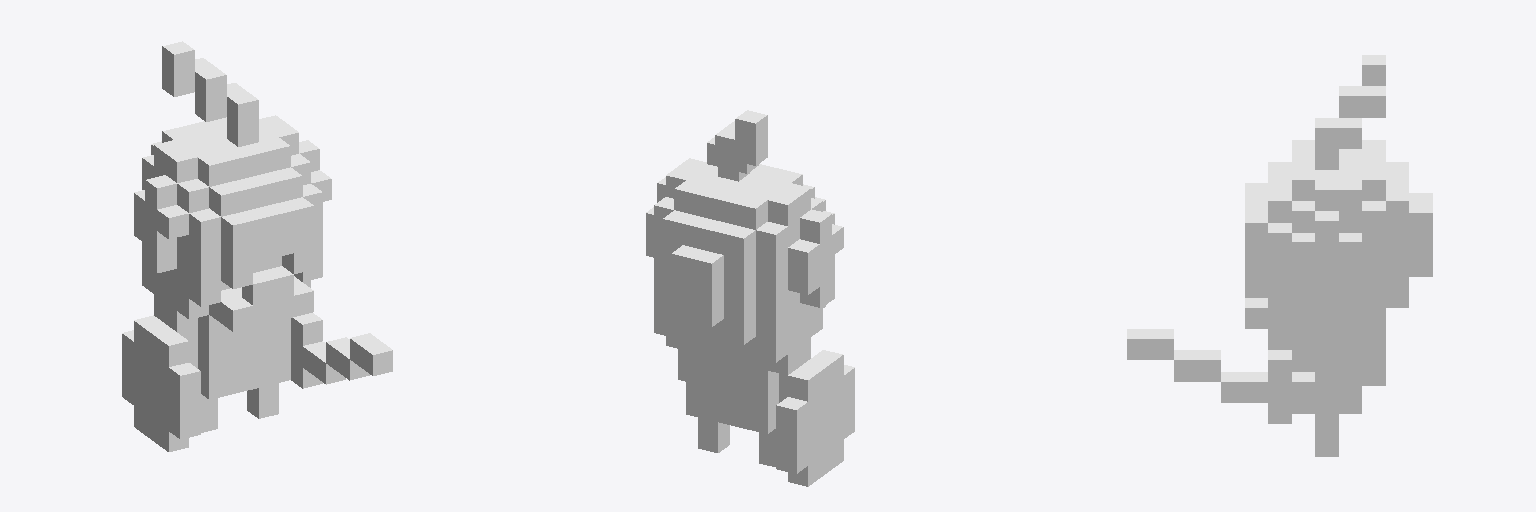
Rendered from attack1.obj.
The picture shows the model from 3 angles: view 1: azimuth 30°, elevation 25°; view 2: azimuth 150°, elevation 25°; view 3: azimuth 270°, elevation 25°; orthographic projection.
Visible parts, largest first — view 1: object 1; view 2: object 1; view 3: object 1.
Boxes of the visible parts, x1=… form: object 1: x1=122, y1=41, x2=392, y2=451; object 1: x1=646, y1=110, x2=854, y2=486; object 1: x1=1127, y1=55, x2=1432, y2=456.
Bounding box in the file's own units: 0.8 × 1.7 × 1.3.